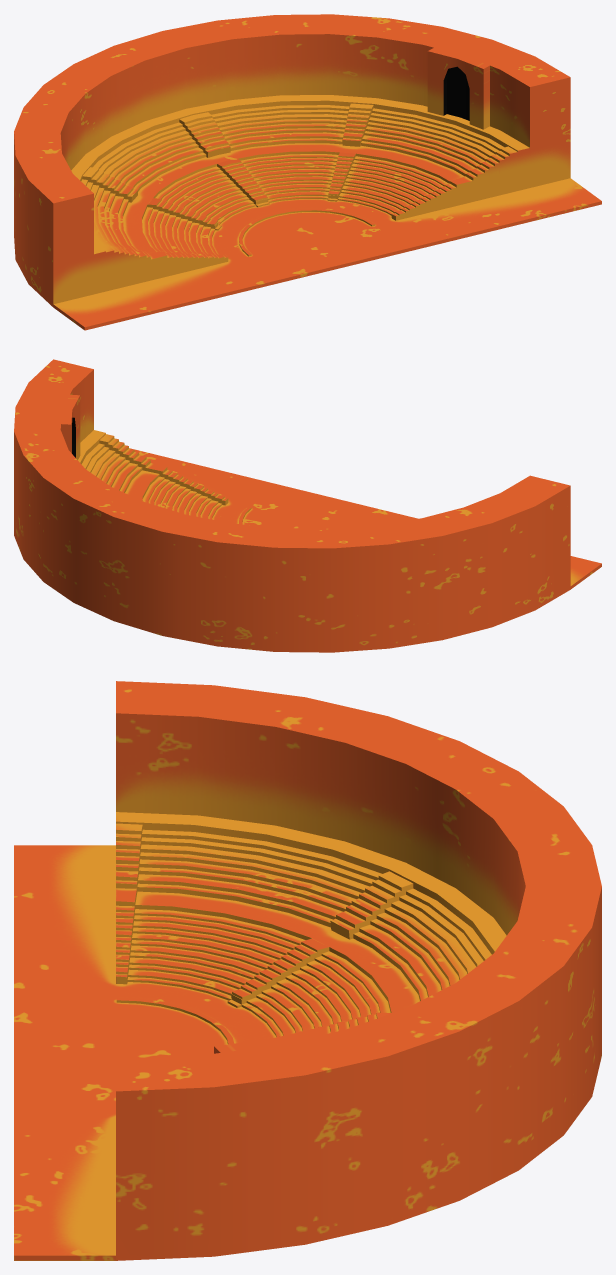
File: teatroRomano9.fbx
3 views of the same model, one above another, from view 1: azimuth 30°, elevation 25°; view 2: azimuth 150°, elevation 25°; view 3: azimuth 270°, elevation 25° (orthographic). The views are drawn at different scales.
Parts seen in each view (by area): view 1: theatre, Door; view 2: theatre, Door; view 3: theatre, Door.
Boxes of the visible parts, bbox=[...] form: theatre: bbox=[14, 14, 601, 330]; Door: bbox=[427, 47, 489, 129]; theatre: bbox=[14, 359, 601, 652]; Door: bbox=[61, 394, 80, 459]; theatre: bbox=[14, 681, 601, 1260]; Door: bbox=[214, 1027, 325, 1053].
Size of the model in its own units: 8069 by 1554 by 4886.
Materials: 2 (1 with a texture image).
